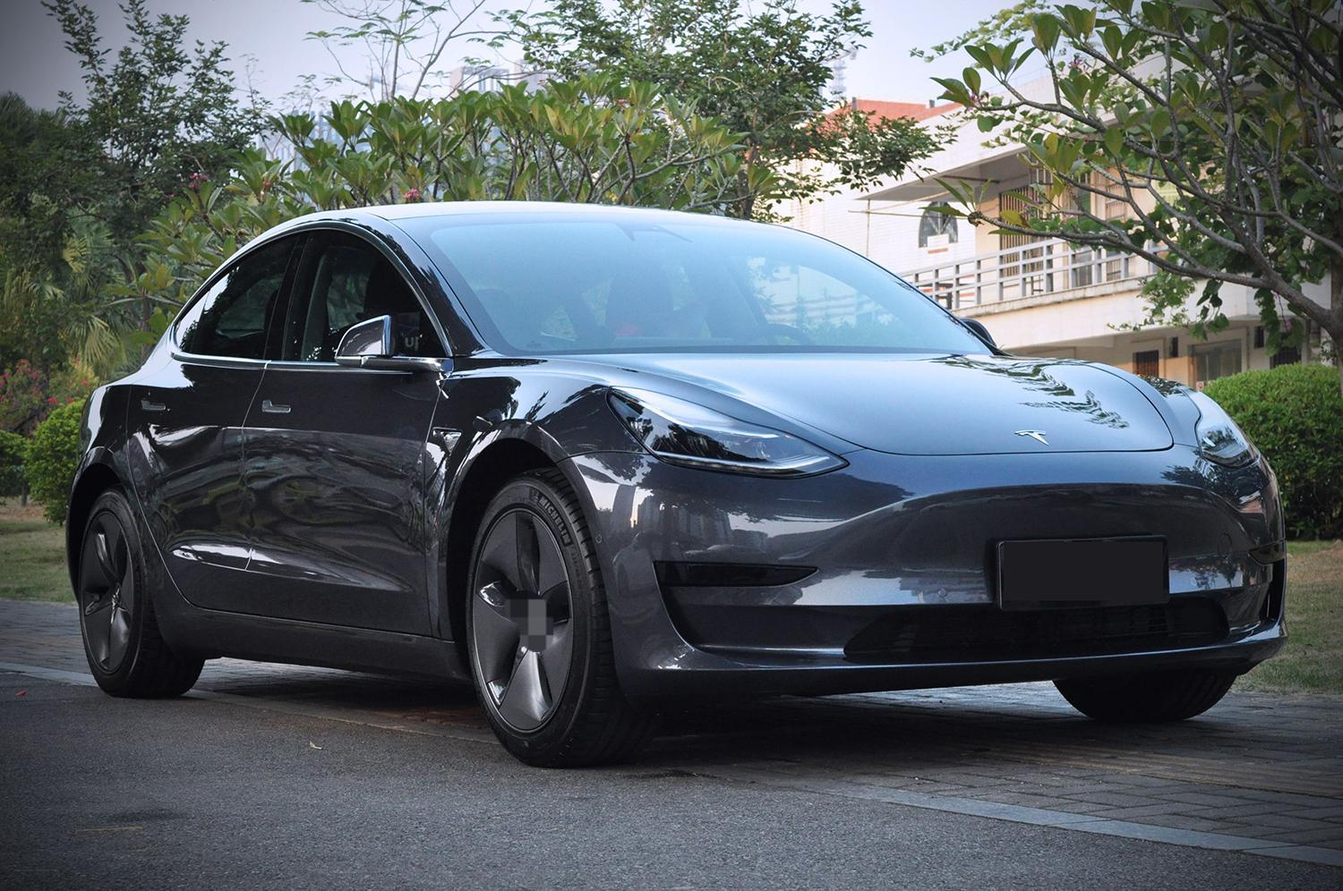Tesla: (1014, 429, 1050, 446)
